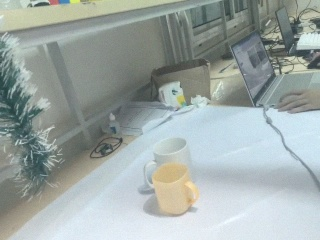cup: (151, 161, 201, 217), (152, 136, 191, 173)
